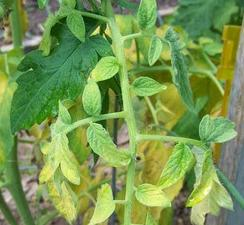Tomato leaf yellow virus: (0, 46, 26, 198), (76, 123, 128, 172), (150, 136, 191, 189), (76, 61, 106, 121), (133, 178, 173, 213)
